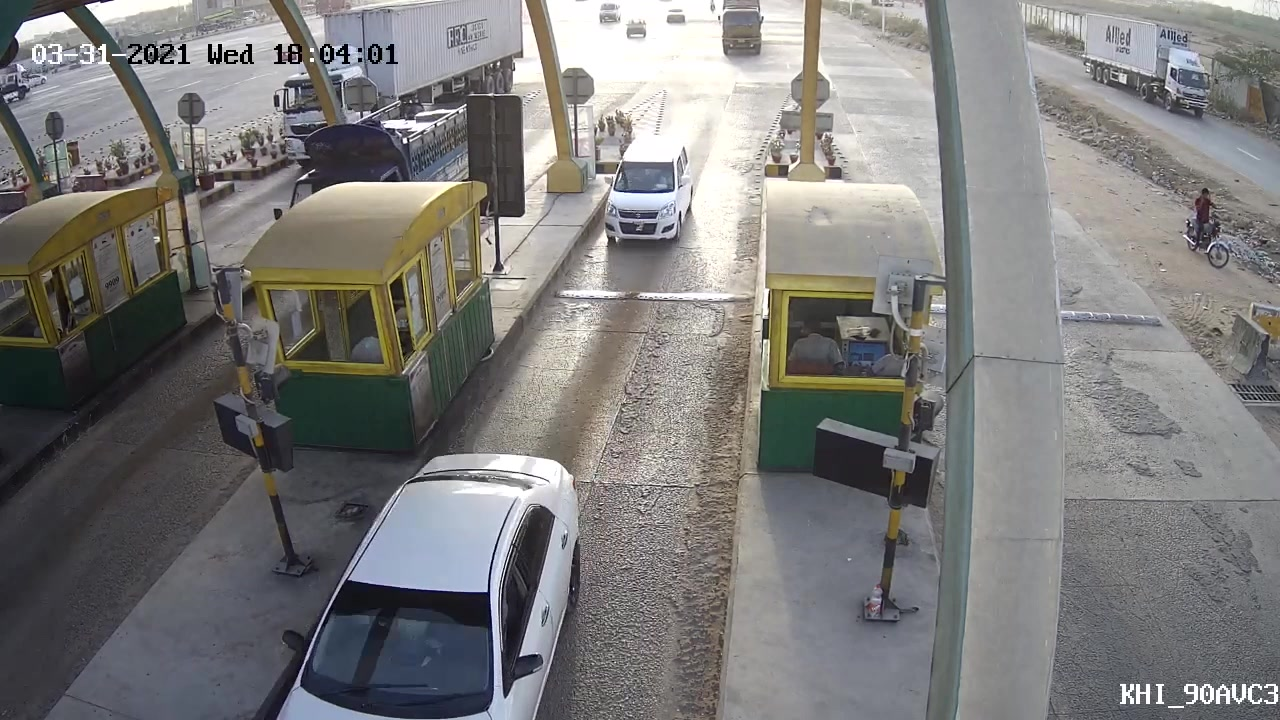F1: (597, 126, 716, 248)
